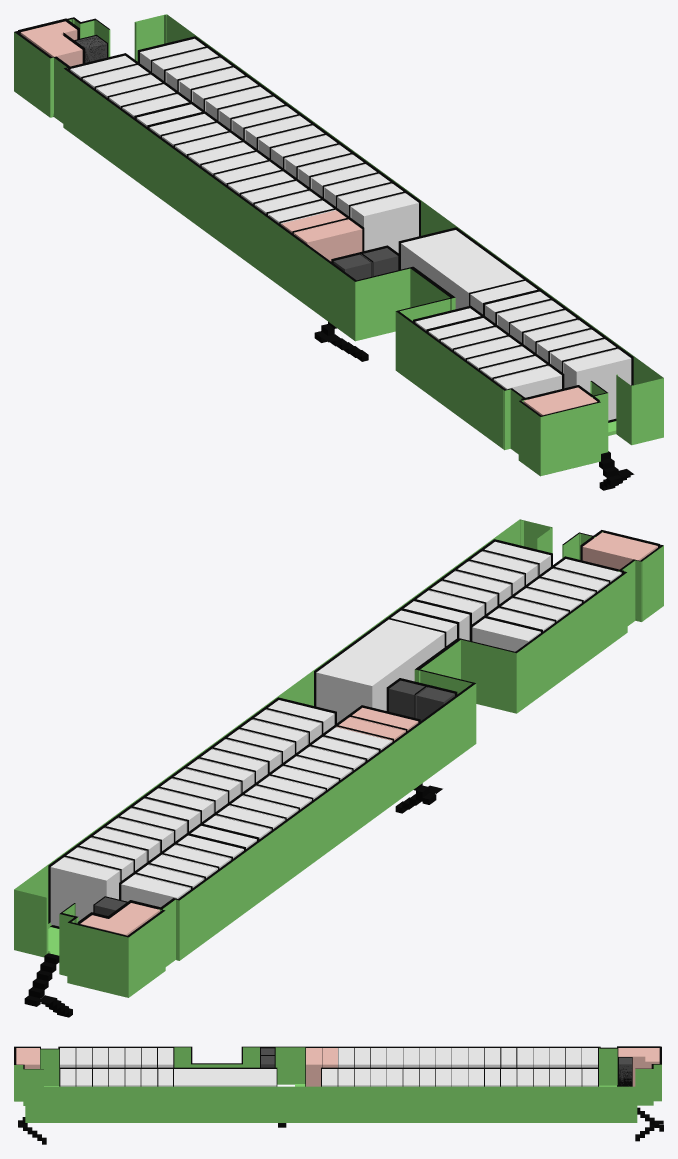
3 views of the same model, one above another, from view 1: azimuth 30°, elevation 25°; view 2: azimuth 150°, elevation 25°; view 3: azimuth 270°, elevation 25° (orthographic). The views are drawn at different scales.
Visible parts, largest first — view 1: object, room_10_6_49, room_10_6_40, room_10_6_48, トイレ_10_6_4, トイレ_10_6_3, エレベーター_10_6_1, room_10_6_1, トイレ_10_6_1, room_10_6_22, room_10_6_29, room_10_6_26 (+42 smaller); view 2: object, room_10_6_49, room_10_6_24, トイレ_10_6_1, エレベーター_10_6_1, room_10_6_7, room_10_6_23, トイレ_10_6_3, 階段_10_6_1, room_10_6_22, room_10_6_41, room_10_6_28 (+41 smaller); view 3: object, room_10_6_49, トイレ_10_6_3, トイレ_10_6_4, トイレ_10_6_1, 階段_10_6_1, room_10_6_22, object_エレベーター_6_1, room_10_6_3, room_10_6_17, room_10_6_20, room_10_6_21 (+49 smaller).
Boxes of the visible parts, <box> form: object: <box>14,14,663,476</box>; room_10_6_49: <box>401,230,525,308</box>; room_10_6_40: <box>351,193,418,252</box>; room_10_6_48: <box>564,349,631,420</box>; トイレ_10_6_4: <box>294,220,362,261</box>; トイレ_10_6_3: <box>20,21,82,66</box>; エレベーター_10_6_1: <box>333,248,398,280</box>; room_10_6_1: <box>494,366,561,397</box>; トイレ_10_6_1: <box>523,387,597,415</box>; room_10_6_22: <box>81,63,153,89</box>; room_10_6_29: <box>206,87,273,120</box>; room_10_6_26: <box>166,58,233,91</box>; object: <box>14,519,663,997</box>; room_10_6_49: <box>316,620,443,722</box>; room_10_6_24: <box>50,857,119,926</box>; トイレ_10_6_1: <box>582,532,657,569</box>; エレベーター_10_6_1: <box>389,680,454,720</box>; room_10_6_7: <box>472,618,540,651</box>; room_10_6_23: <box>121,874,190,907</box>; トイレ_10_6_3: <box>80,903,159,935</box>; 階段_10_6_1: <box>24,953,72,1017</box>; room_10_6_22: <box>132,862,205,889</box>; room_10_6_41: <box>388,610,456,647</box>; room_10_6_28: <box>104,818,173,852</box>; object: <box>14,1046,661,1122</box>; room_10_6_49: <box>189,1069,276,1086</box>; トイレ_10_6_3: <box>618,1048,659,1086</box>; トイレ_10_6_4: <box>306,1048,321,1086</box>; トイレ_10_6_1: <box>16,1048,39,1068</box>; 階段_10_6_1: <box>635,1107,663,1141</box>; room_10_6_22: <box>565,1046,582,1067</box>; object_エレベーター_6_1: <box>618,1057,632,1086</box>; room_10_6_3: <box>92,1048,108,1067</box>; room_10_6_17: <box>484,1048,500,1067</box>; room_10_6_20: <box>533,1048,549,1067</box>; room_10_6_21: <box>549,1048,565,1067</box>.
Bounding box in the file's own units: 0.363 × 0.2946 × 2.49.
